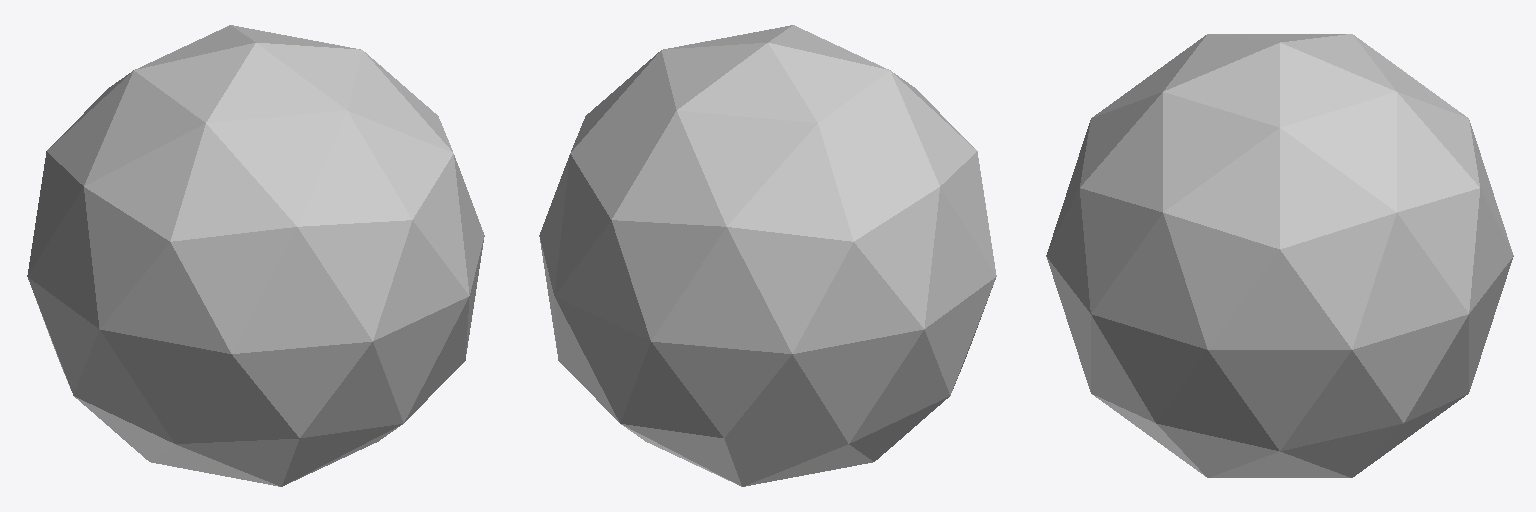
The model's file is head.obj.
3 views of the same model, side by side, from view 1: azimuth 30°, elevation 25°; view 2: azimuth 150°, elevation 25°; view 3: azimuth 270°, elevation 25° (orthographic).
Parts seen in each view (by area): view 1: head; view 2: head; view 3: head.
Boxes of the visible parts, box(x1,y1,x2,y2) form: head: box(27, 25, 484, 486); head: box(539, 25, 996, 486); head: box(1046, 34, 1513, 477).
Size of the model in its own units: 2.39 by 2.53 by 2.51.